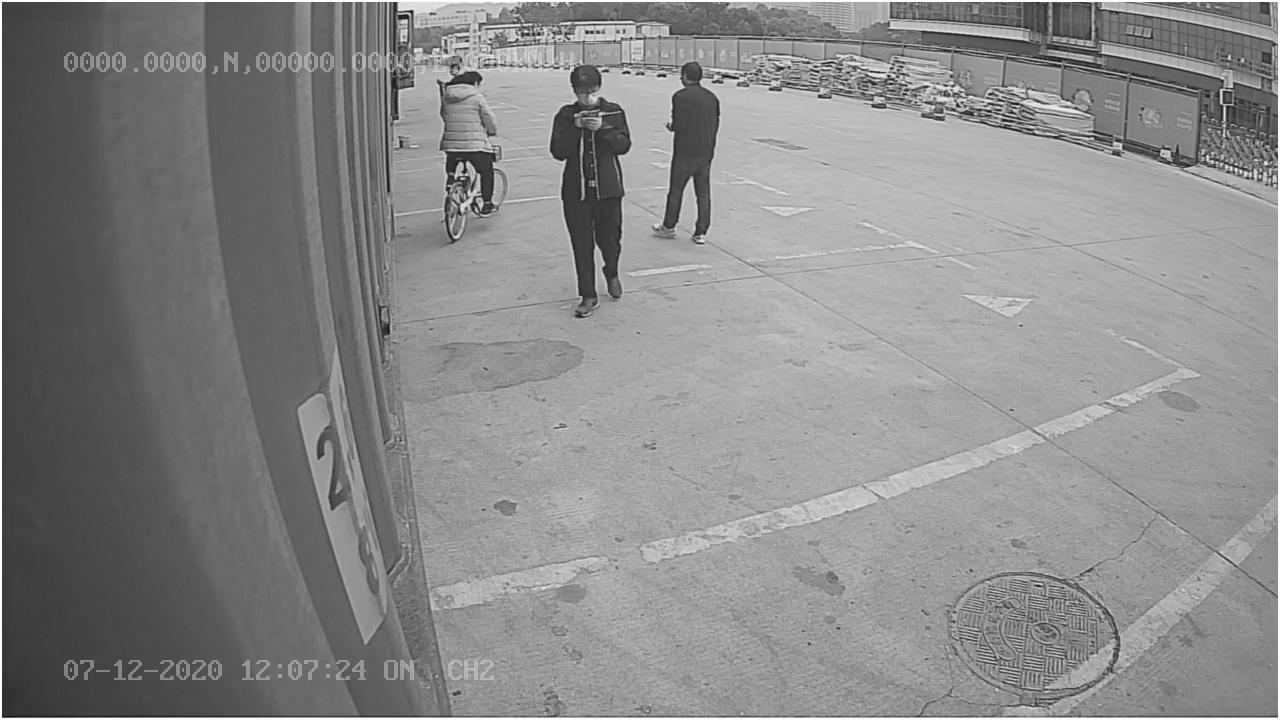person: (541, 62, 635, 320)
